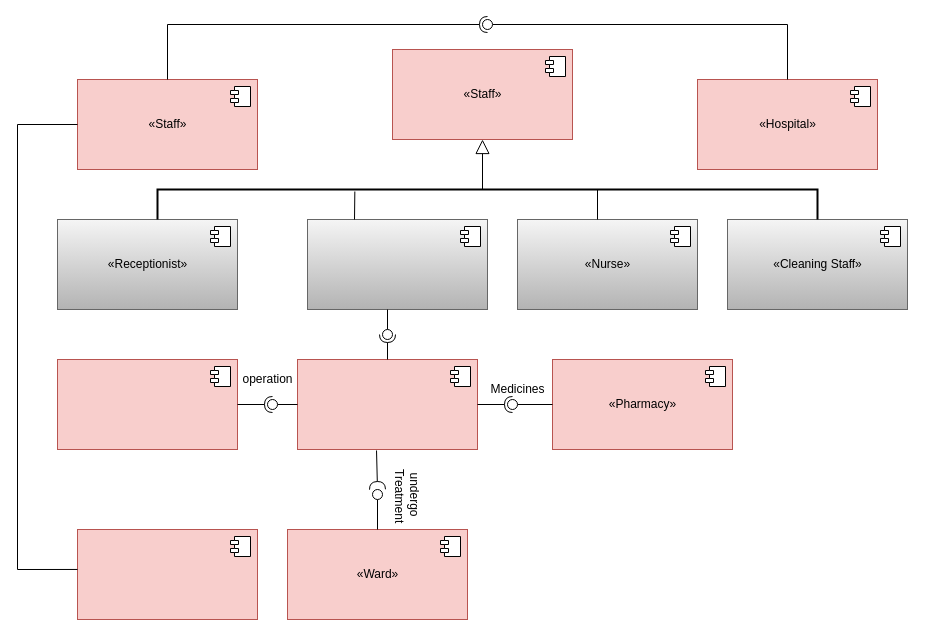
Image size: 925x637. Some labels were removed from this diagram. Each missing label, with the centre of its shape:
"«Cafetaria»" belongs at point 167,574.
"«Doctors»" belongs at point 397,264.
"«Operation Theater»" belongs at point 147,404.
"«Patients»" belongs at point 387,404.
